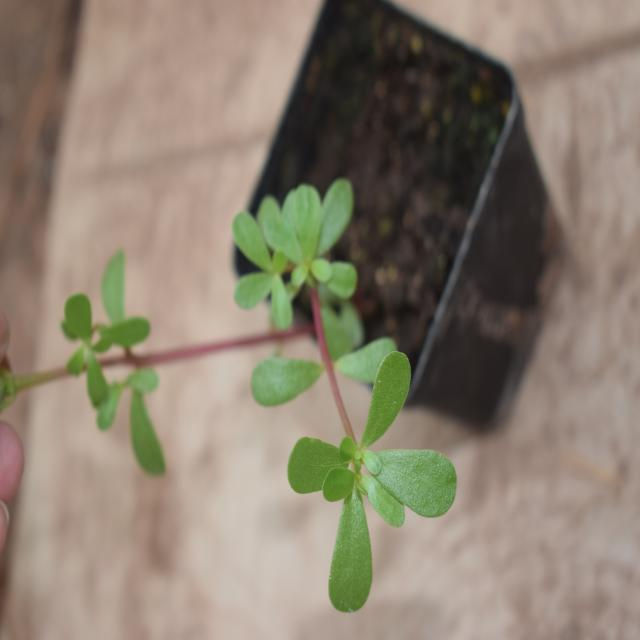purslane: (206, 161, 477, 602)
